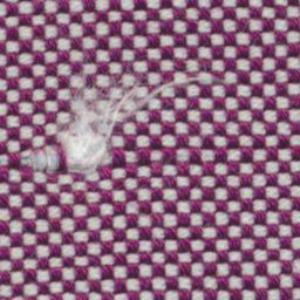fault: (17, 73, 229, 181)
